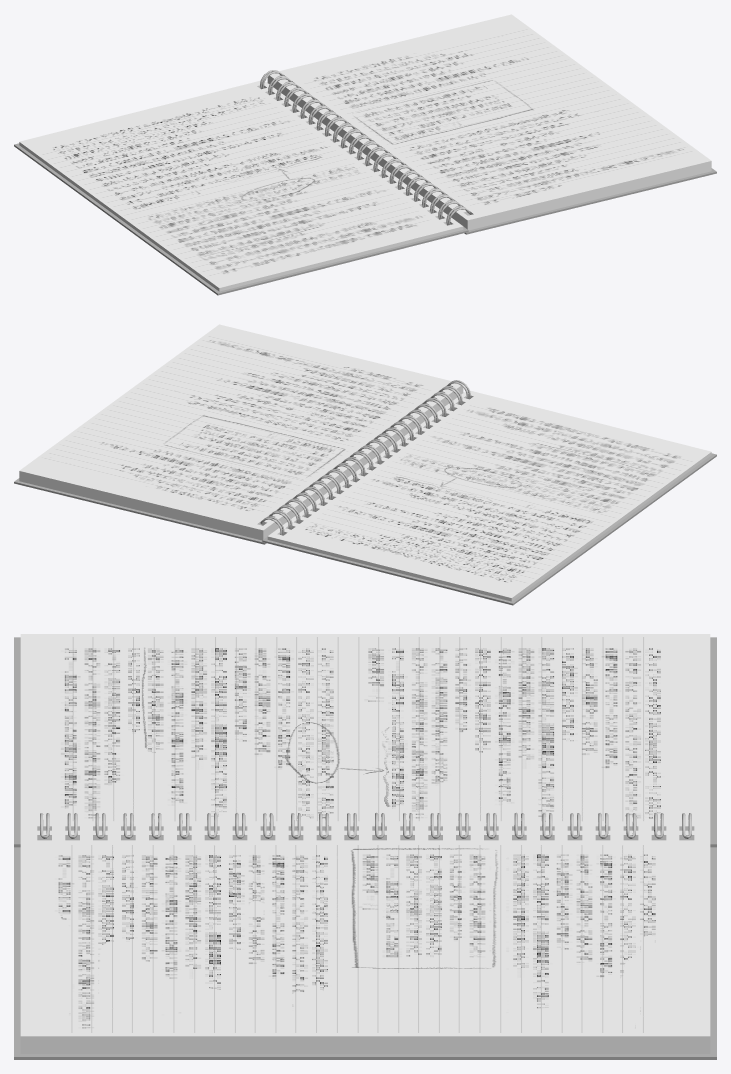
Rendered from 438_リングノート開1記入あり.glb.
The picture shows the model from 3 angles, top to bottom: view 1: azimuth 30°, elevation 25°; view 2: azimuth 150°, elevation 25°; view 3: azimuth 270°, elevation 25°; orthographic projection. The views are drawn at different scales.
Parts seen in each view (by area): view 1: youshi2, youshi1, ring, hyoushi, daishi_ura; view 2: youshi2, youshi1, ring, hyoushi, daishi_ura; view 3: youshi2, youshi1, daishi_ura, ring, hyoushi.
Boxes of the visible parts, x1=… form: youshi2: x1=267, y1=14, x2=711, y2=230; youshi1: x1=19, y1=80, x2=463, y2=291; ring: x1=260, y1=70, x2=470, y2=225; hyoushi: x1=14, y1=143, x2=468, y2=295; daishi_ura: x1=464, y1=168, x2=716, y2=234; youshi2: x1=19, y1=324, x2=463, y2=540; youshi1: x1=267, y1=390, x2=711, y2=601; ring: x1=260, y1=380, x2=470, y2=535; hyoushi: x1=262, y1=428, x2=716, y2=605; daishi_ura: x1=14, y1=478, x2=266, y2=544; youshi2: x1=20, y1=830, x2=710, y2=1053; youshi1: x1=20, y1=634, x2=710, y2=830; daishi_ura: x1=14, y1=847, x2=716, y2=1059; ring: x1=40, y1=812, x2=691, y2=838; hyoushi: x1=14, y1=637, x2=716, y2=847.
Size of the model in its own units: 0.3025 by 0.0139 by 0.214.
Materials: 4 (1 with a texture image).
